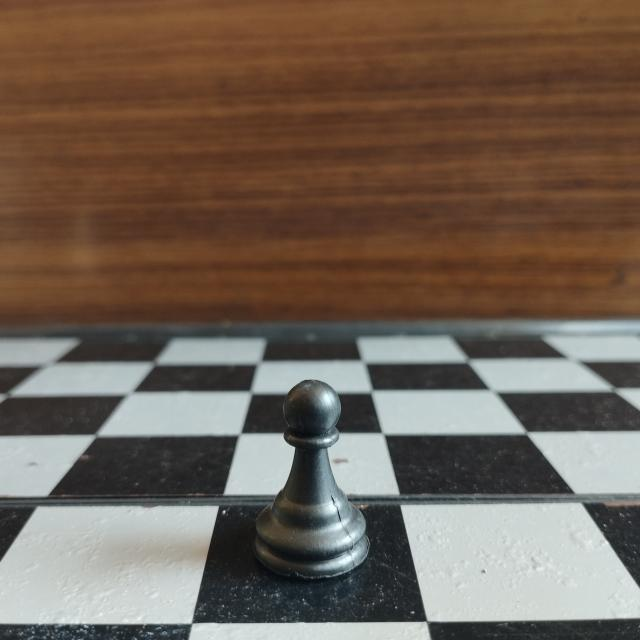Black Pawn: (250, 376, 378, 583)
